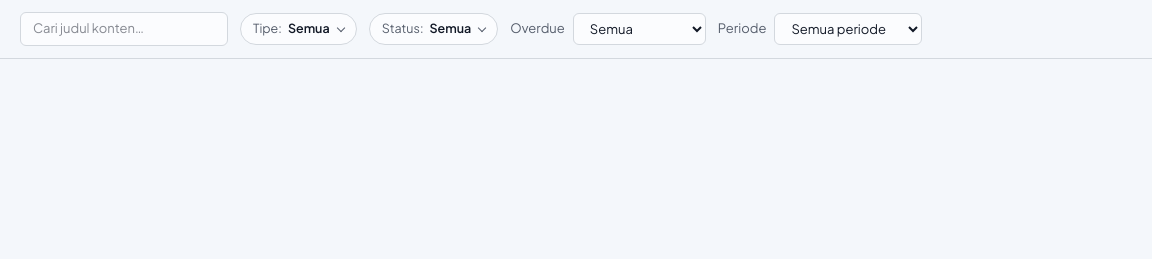
Test: MyTaskFilters › offers only what Perlu Dikerjakan can list on that tab, an H-1 draft in review included
The image size is (1152, 259).
Click the button "Status: Semua".
click(434, 29)  # box 369,13 -> 498,45
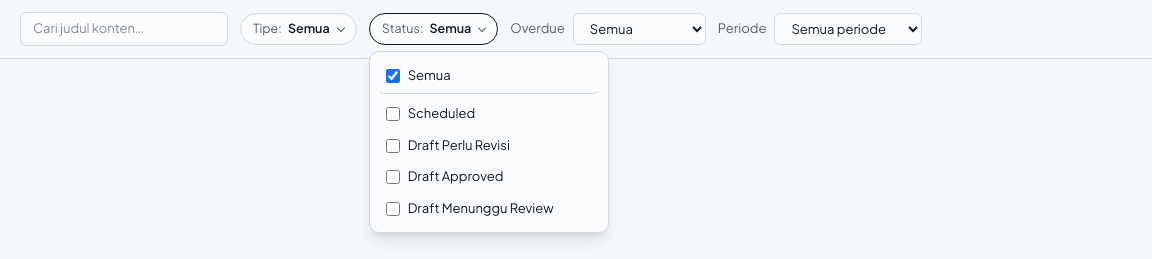
Now the checkbox labelled "Scheduled" is shown, box 386,107 -> 400,121
Now the checkbox labelled "Draft Perlu Revisi" is shown, box 386,138 -> 400,152
Now the checkbox labelled "Draft Approved" is shown, box 386,170 -> 400,184
